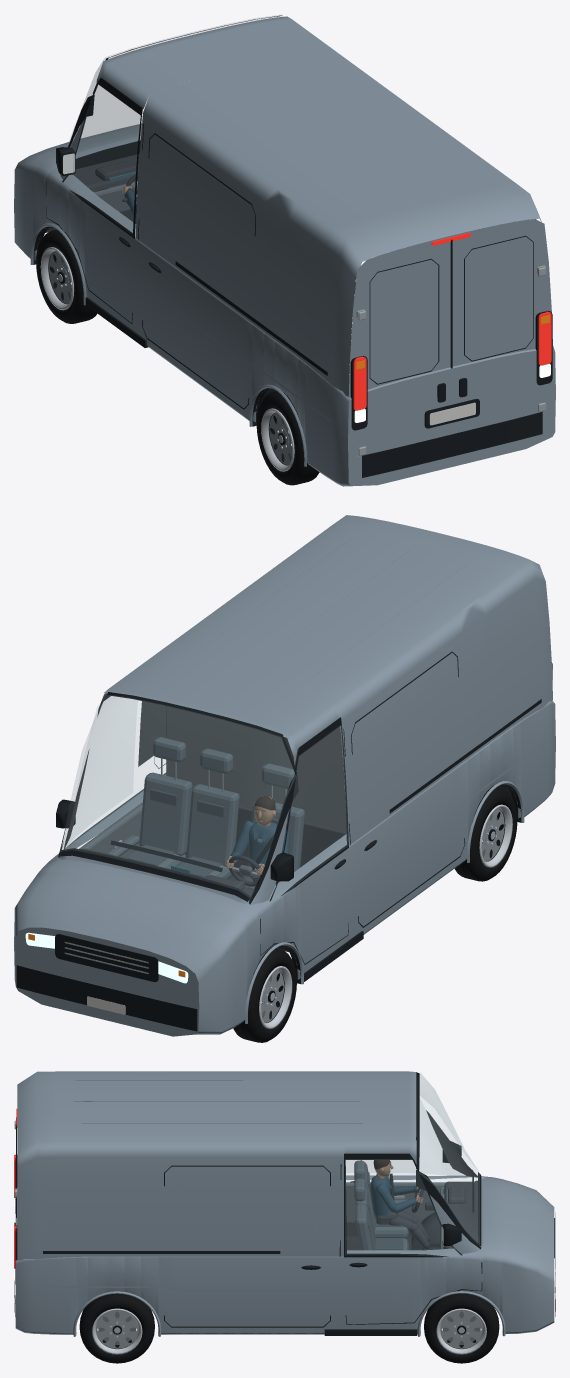
File: van.glb
3 views of the same model, one above another, from view 1: azimuth 30°, elevation 25°; view 2: azimuth 150°, elevation 25°; view 3: azimuth 270°, elevation 25° (orthographic). The views are drawn at different scales.
Visible parts, largest first — view 1: body, trim, glass, cabin_interior, wheel_rl_rubber, wheel_fl_rubber, lights_red, wheel_rl_wheel_metal, wheel_fl_wheel_metal, plate; view 2: body, glass, cabin_interior, trim, wheel_fl_rubber, wheel_rl_rubber, wheel_rl_wheel_metal, wheel_fl_wheel_metal, lights_white; view 3: body, glass, cabin_interior, trim, wheel_fr_rubber, wheel_rr_rubber, wheel_rr_wheel_metal, wheel_fr_wheel_metal.
Boxes of the visible parts, left/top/right/bottom form: body: left=14, top=16, right=555, bottom=486; trim: left=33, top=15, right=552, bottom=477; glass: left=61, top=15, right=282, bottom=234; cabin_interior: left=45, top=153, right=536, bottom=401; wheel_rl_rubber: left=256, top=390, right=319, bottom=485; wheel_fl_rubber: left=36, top=229, right=97, bottom=323; lights_red: left=353, top=232, right=551, bottom=410; wheel_rl_wheel_metal: left=261, top=408, right=294, bottom=471; wheel_fl_wheel_metal: left=40, top=247, right=74, bottom=310; plate: left=429, top=402, right=475, bottom=425; body: left=14, top=515, right=555, bottom=1036; glass: left=60, top=694, right=348, bottom=902; cabin_interior: left=63, top=693, right=512, bottom=951; trim: left=16, top=651, right=552, bottom=1031; wheel_fl_rubber: left=233, top=948, right=296, bottom=1042; wheel_rl_rubber: left=454, top=786, right=517, bottom=881; wheel_rl_wheel_metal: left=479, top=804, right=512, bottom=867; wheel_fl_wheel_metal: left=259, top=966, right=292, bottom=1029; lights_white: left=25, top=932, right=188, bottom=983; body: left=15, top=1071, right=554, bottom=1336; glass: left=345, top=1073, right=479, bottom=1256; cabin_interior: left=346, top=1110, right=479, bottom=1250; trim: left=14, top=1072, right=555, bottom=1335; wheel_fr_rubber: left=424, top=1293, right=499, bottom=1363; wheel_rr_rubber: left=79, top=1293, right=154, bottom=1363; wheel_rr_wheel_metal: left=92, top=1308, right=142, bottom=1354; wheel_fr_wheel_metal: left=436, top=1308, right=486, bottom=1354.
Bounding box in the file's own units: 2.17 × 2.54 × 5.62.
